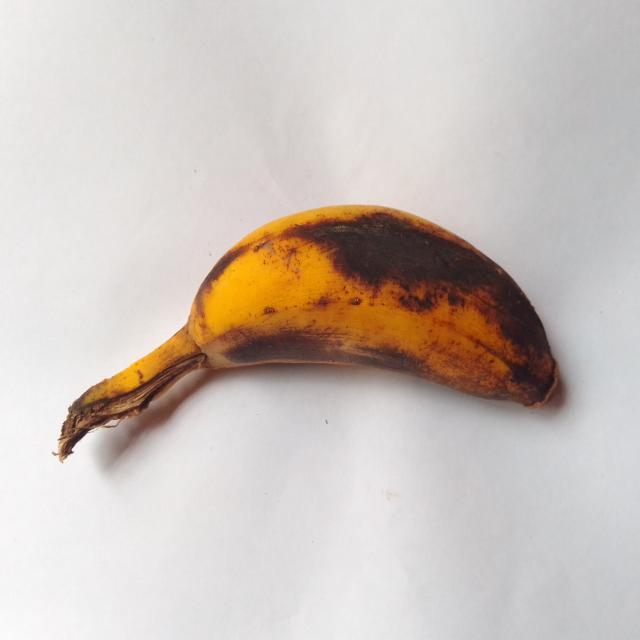banana: (59, 206, 557, 460)
